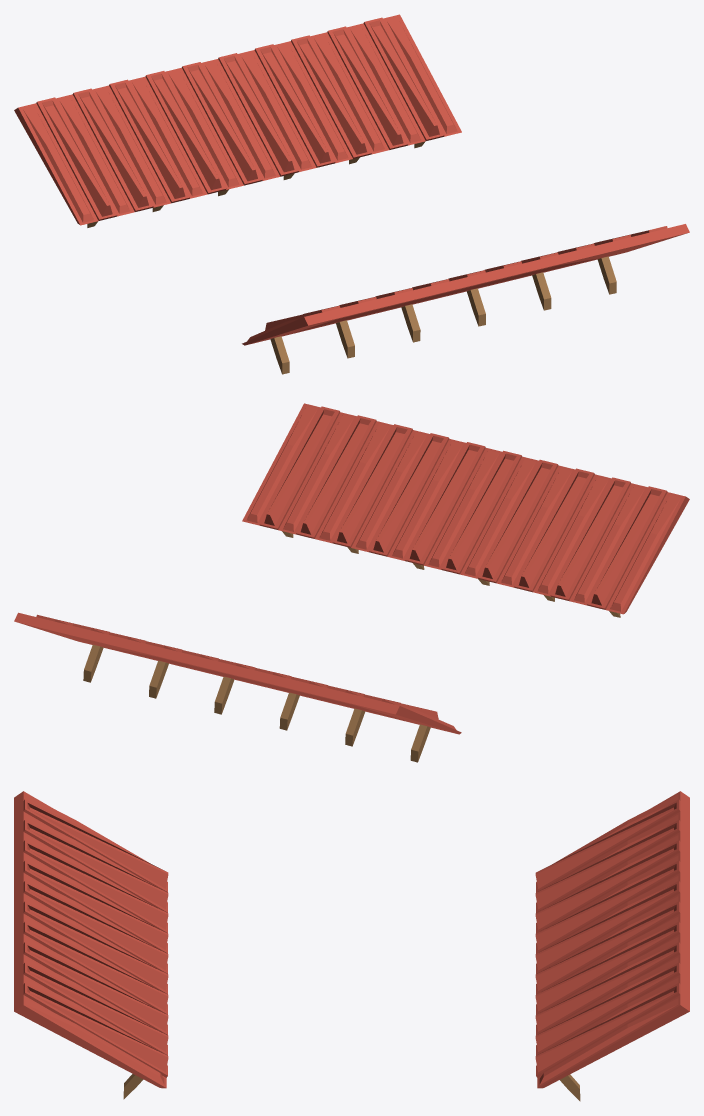
The model's file is Awning F2.fbx.
3 renders of one model, top to bottom at view 1: azimuth 30°, elevation 25°; view 2: azimuth 150°, elevation 25°; view 3: azimuth 270°, elevation 25°, orthographic. The views are drawn at different scales.
Visible parts, largest first — view 1: Awning, Awning 1, Struts 1; view 2: Awning 1, Awning, Struts; view 3: Awning 1, Awning.
Boxes of the visible parts, x1=… form: Awning: x1=14, y1=14, x2=461, y2=225; Awning 1: x1=242, y1=224, x2=689, y2=345; Struts 1: x1=270, y1=256, x2=616, y2=374; Awning 1: x1=242, y1=403, x2=689, y2=614; Awning: x1=14, y1=612, x2=461, y2=734; Struts: x1=83, y1=644, x2=430, y2=762; Awning 1: x1=14, y1=791, x2=168, y2=1088; Awning: x1=535, y1=791, x2=689, y2=1088.
Size of the model in its own units: 600 by 146 by 801.
